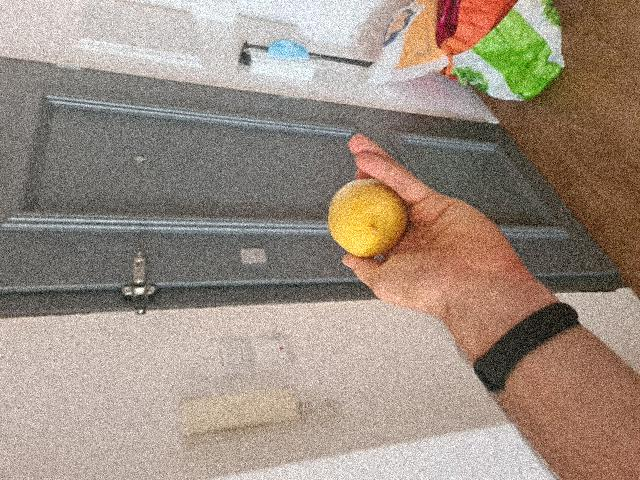lemon: (326, 178, 409, 254)
